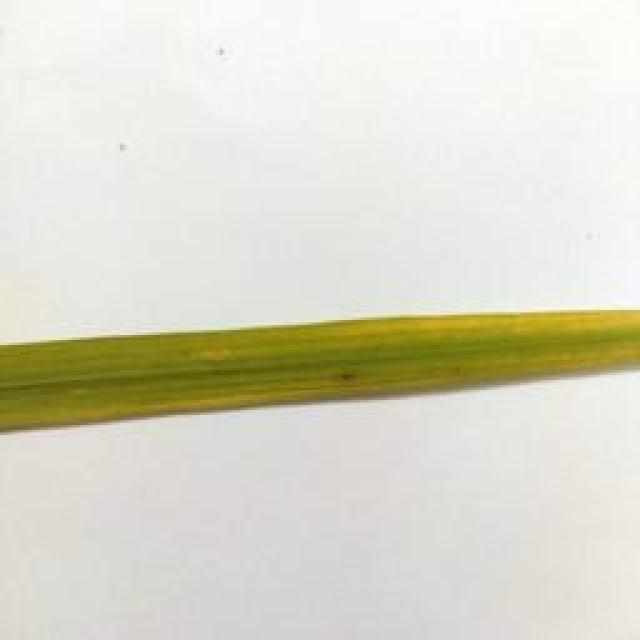Bacterial_Blight: (472, 280, 640, 415)
Brown_Spot: (329, 368, 369, 386)
